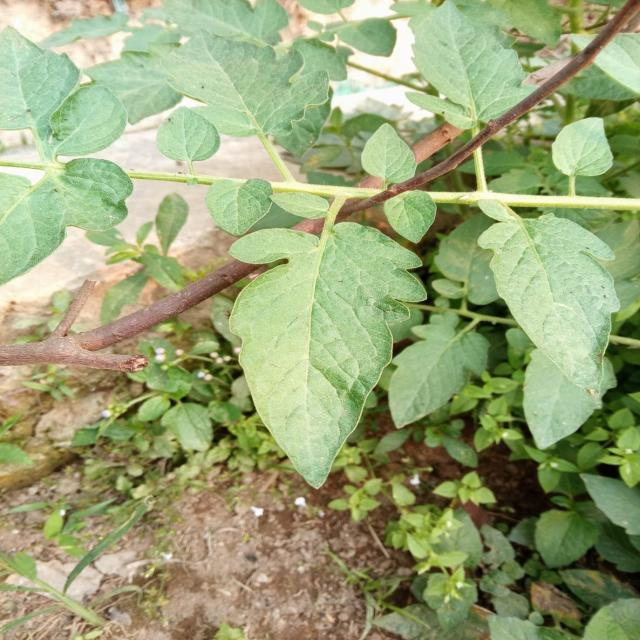Healthy: (155, 177, 441, 495), (438, 160, 640, 400), (380, 0, 545, 155), (155, 27, 334, 147), (0, 143, 148, 284), (0, 24, 88, 149), (33, 73, 137, 174), (350, 121, 427, 197), (543, 113, 620, 188), (375, 176, 445, 245), (206, 179, 272, 235)
